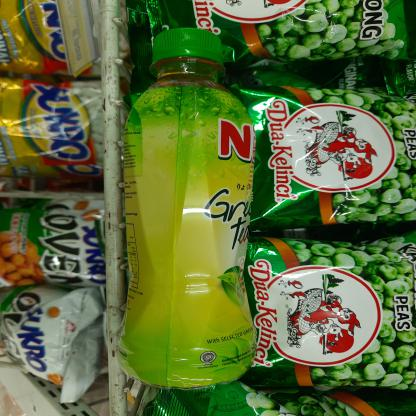bottle: (110, 24, 262, 393)
